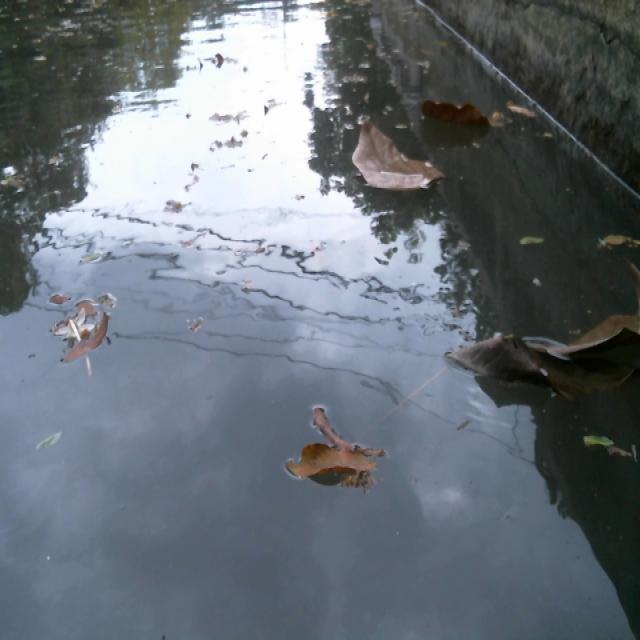Big-leaf: (455, 259, 640, 403), (276, 396, 394, 488), (343, 113, 445, 198), (417, 87, 503, 136)
Small-leaf: (587, 415, 640, 474), (62, 318, 114, 370), (502, 93, 559, 121), (512, 218, 552, 256), (595, 225, 640, 257)
